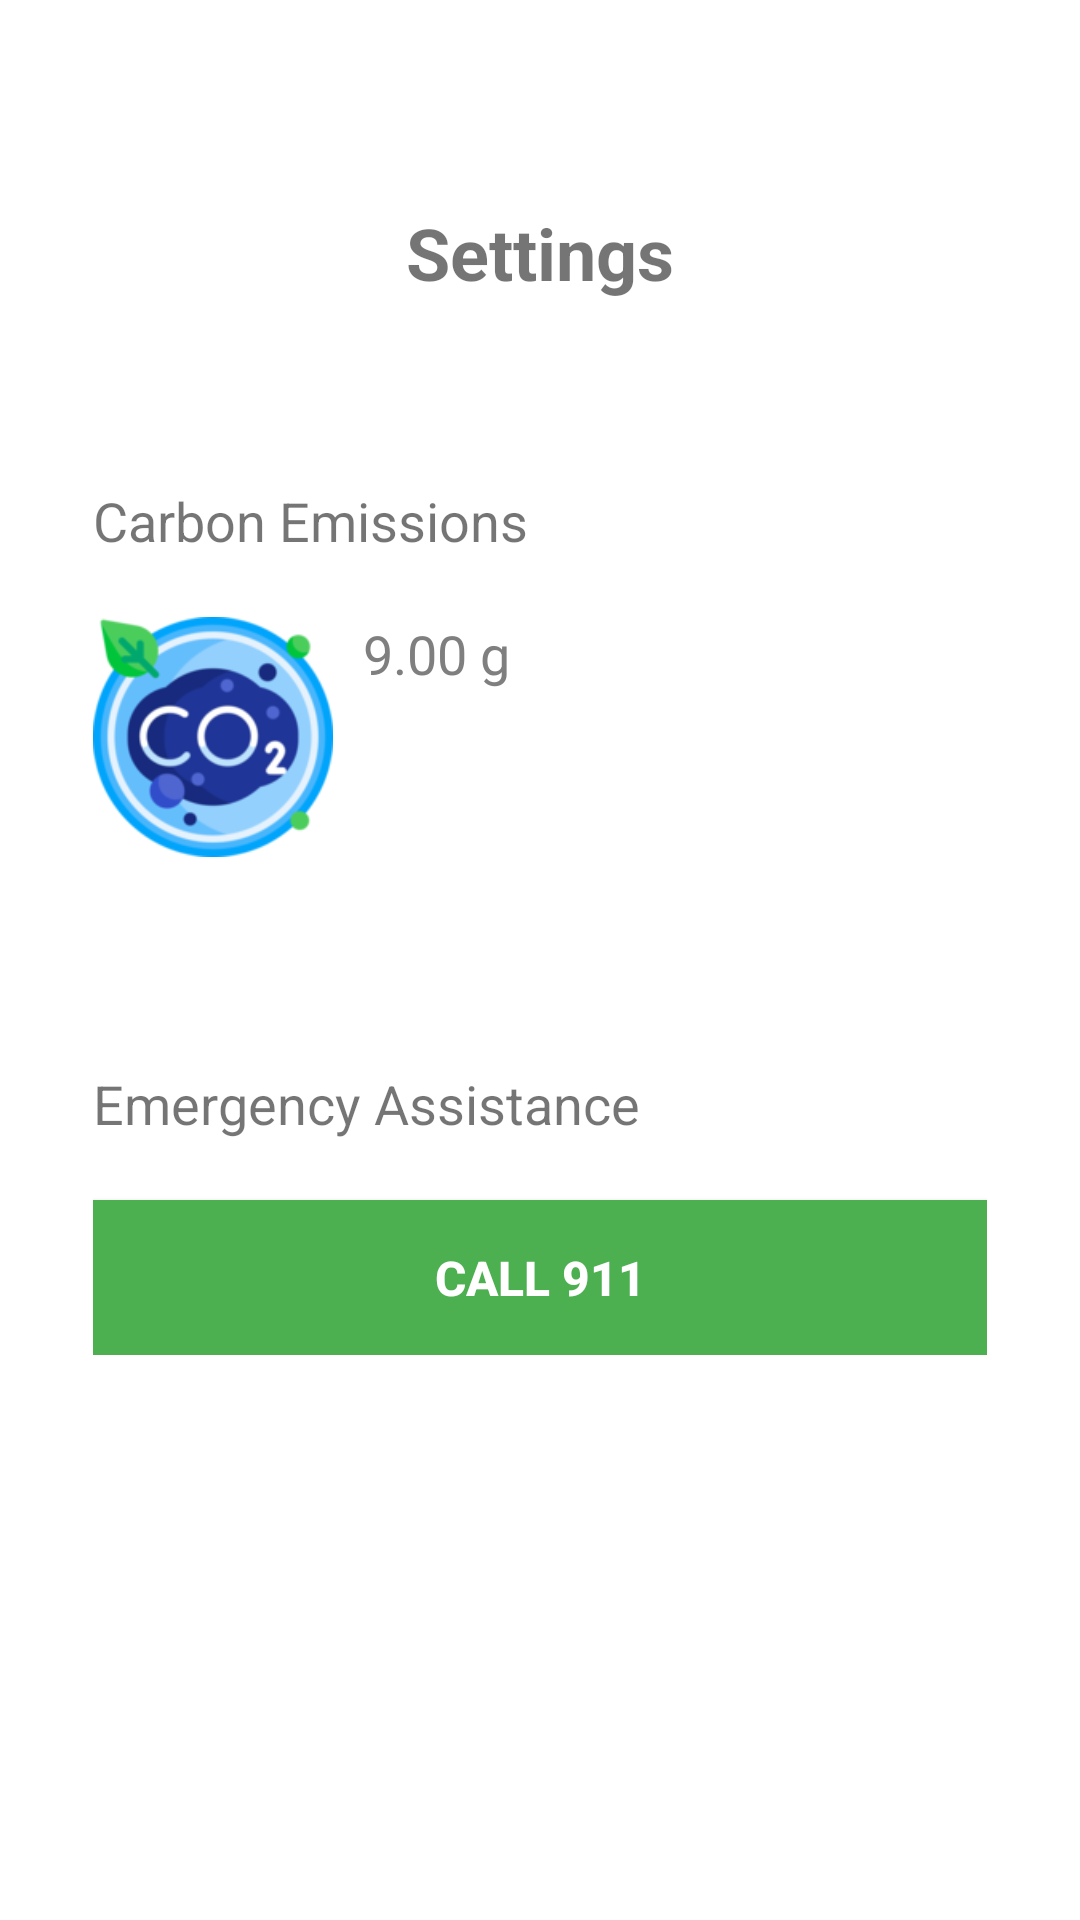

Named icons in this screenshot (1080w x 1920h) and their centers, (x=x, y=y):
Carbon Neutral Icon: (x=213, y=737)
